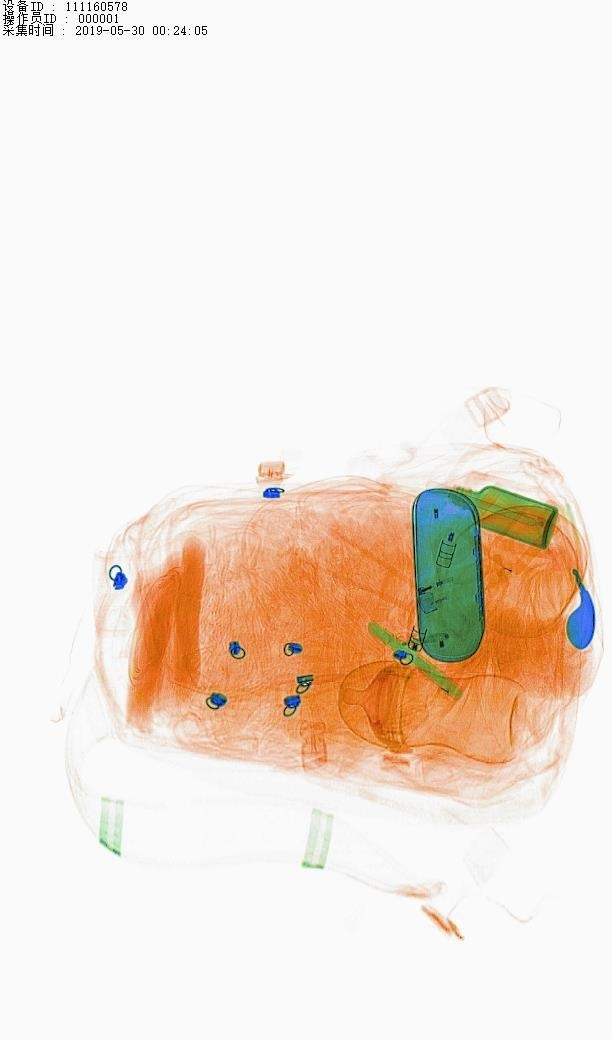NonmetallicFire: (395, 544, 532, 622)
